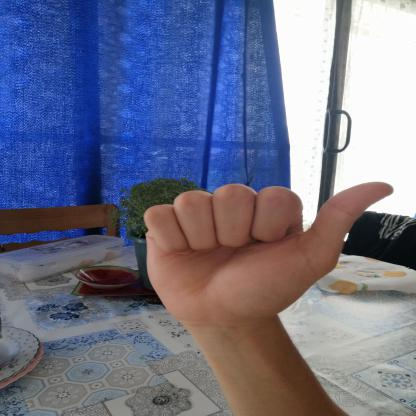DAD: (121, 169, 408, 338)
